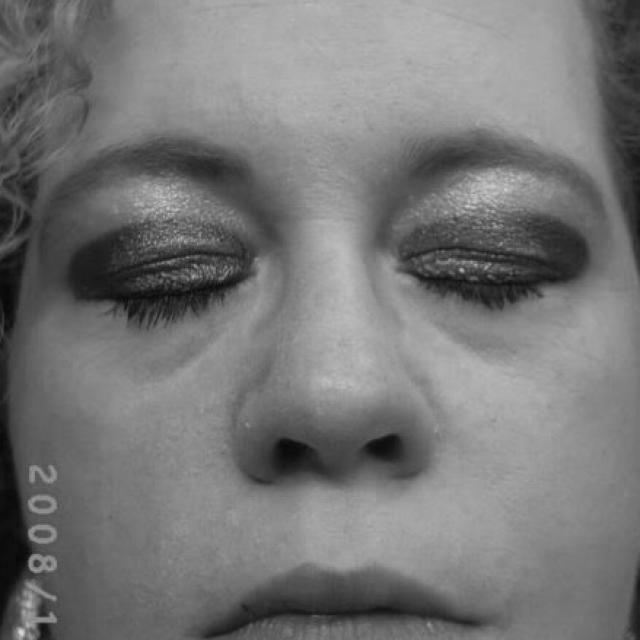real: (47, 19, 611, 640), (62, 201, 612, 326)
